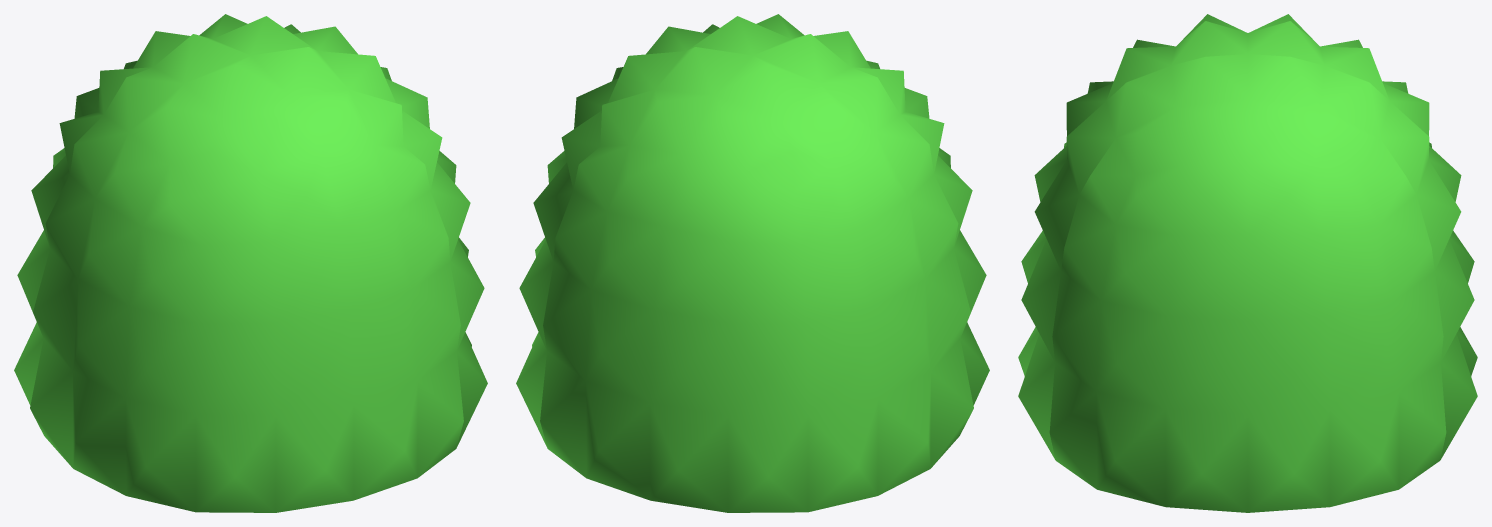
File: M_Coral_Spikey.fbx
3 renders of one model, left to right at view 1: azimuth 30°, elevation 25°; view 2: azimuth 150°, elevation 25°; view 3: azimuth 270°, elevation 25°, orthographic.
Parts seen in each view (by area): view 1: coral_spikey; view 2: coral_spikey; view 3: coral_spikey.
Boxes of the visible parts, x1,y1,x2,y2 form: coral_spikey: (14,14,487,512); coral_spikey: (516,14,989,512); coral_spikey: (1018,14,1477,512).
Bounding box in the file's own units: 6.5 × 6.04 × 6.5.
